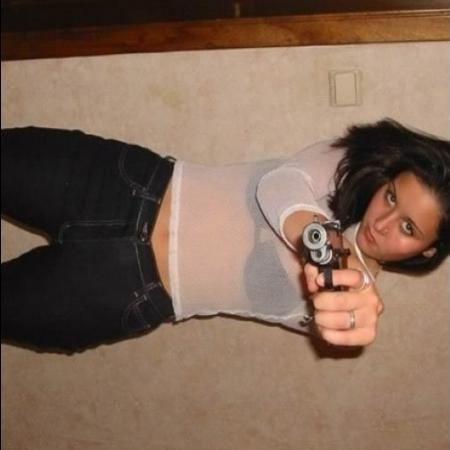Pistol: (297, 212, 369, 370)
